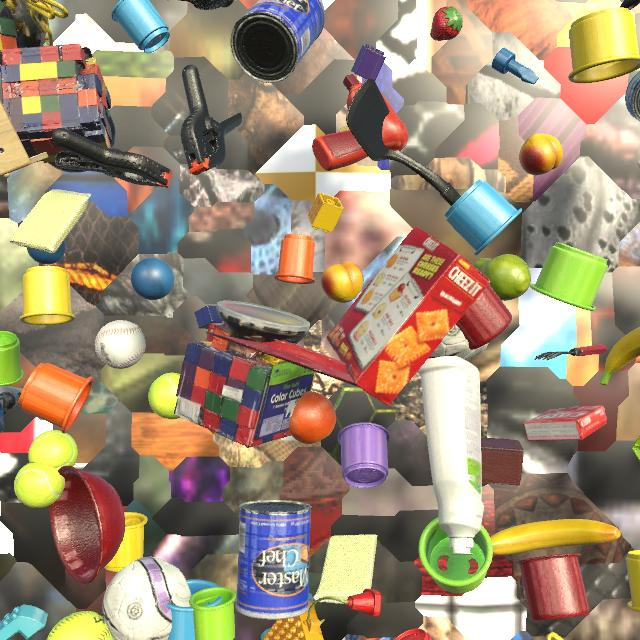ycb_002_master_chef_can: (236, 500, 311, 619), (230, 0, 325, 83)
ycb_003_cracker_box: (326, 226, 490, 406)
ycb_007_tuna_fish_can: (625, 71, 640, 122)
ycb_009_gelatin_box: (523, 406, 607, 441)
ycb_011_banana: (490, 519, 621, 555), (600, 327, 640, 385)
ycb_012_strawberry: (430, 6, 463, 41)
ycb_015_peach: (519, 133, 563, 175), (321, 261, 364, 303)
ycb_016_pear: (474, 254, 531, 301)
ycb_017_orange: (288, 391, 336, 444)
